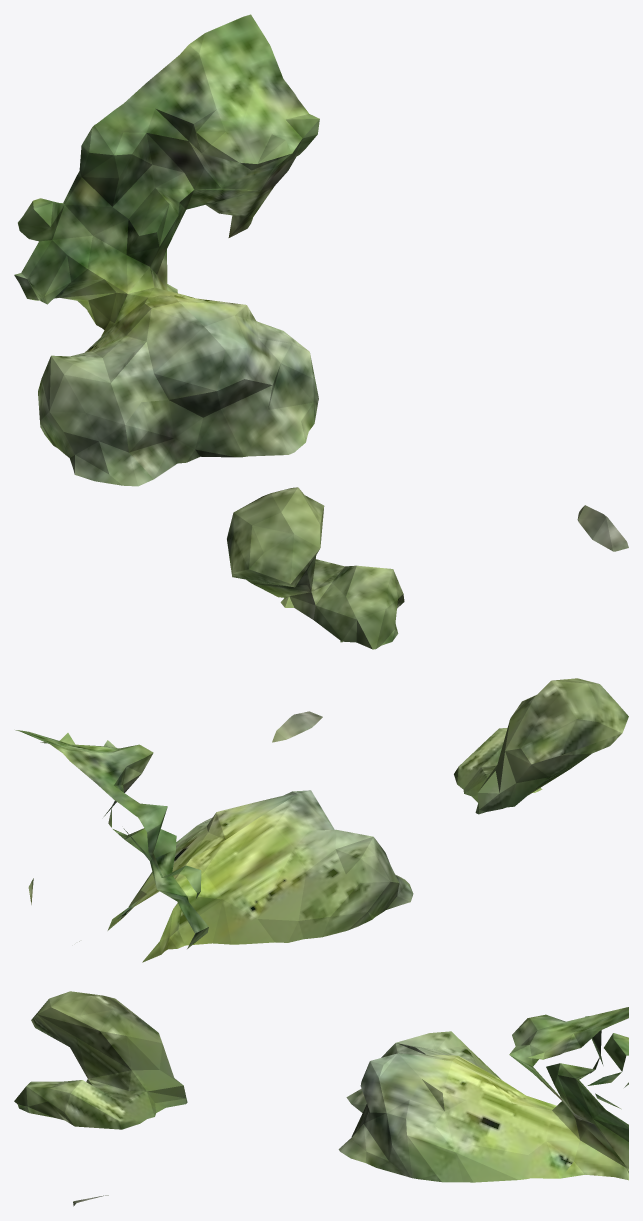
3 views of the same model, one above another, from view 1: azimuth 30°, elevation 25°; view 2: azimuth 150°, elevation 25°; view 3: azimuth 270°, elevation 25° (orthographic). The views are drawn at different scales.
Size of the model in its own units: 11.87 by 7.34 by 21.7.
Materials: 1 (1 with a texture image).
